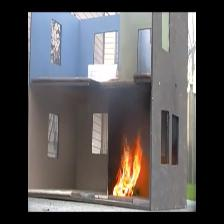fire: (117, 142, 141, 198)
smoke: (119, 94, 138, 137)
